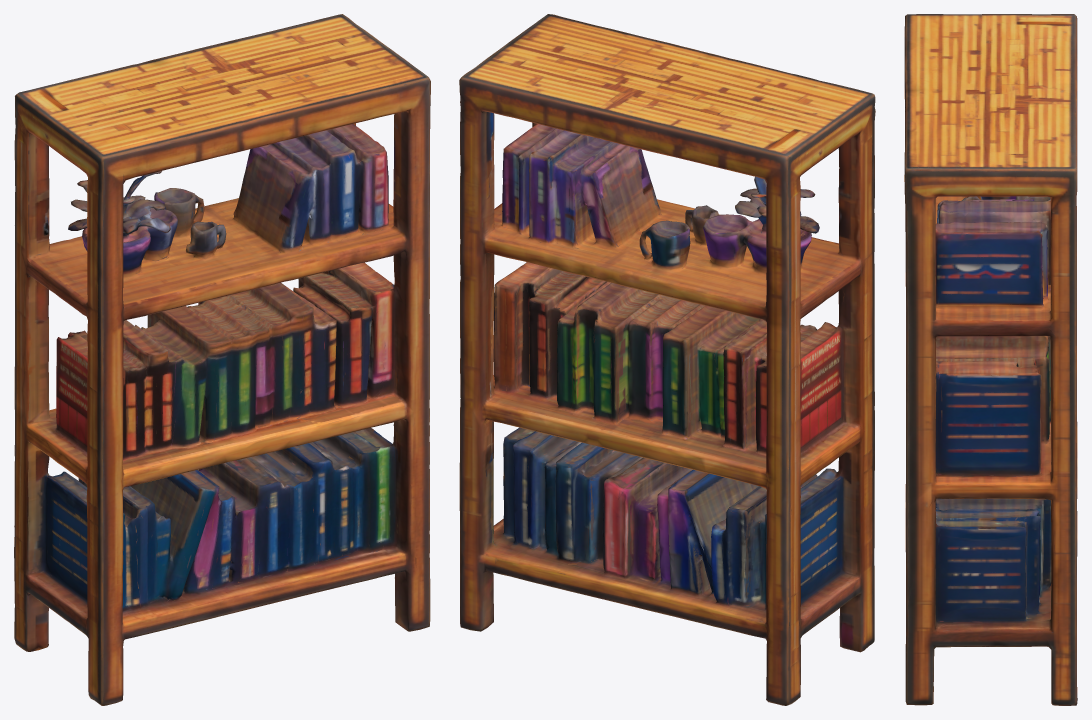
File: bookshelf.glb
3 views of the same model, side by side, from view 1: azimuth 30°, elevation 25°; view 2: azimuth 150°, elevation 25°; view 3: azimuth 270°, elevation 25° (orthographic). The views are drawn at different scales.
Bounding box in the file's own units: 1.26 × 2.01 × 0.5873.
1 material, 1 textured.
